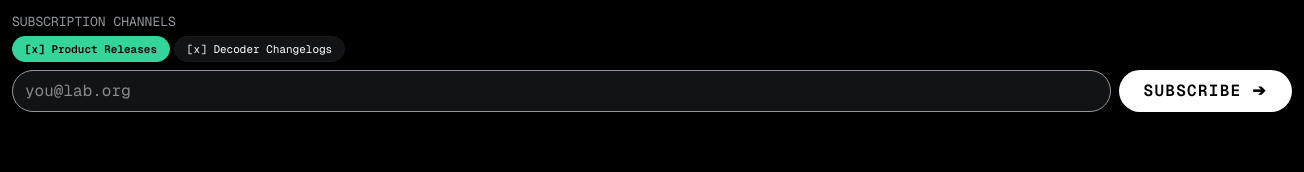
Test: SubscribeForm › rejects an invalid email with an error status
The image size is (1304, 172).
// Bypass native email validation: the component validates too.
In the field with placeholder "you@lab.org": (561, 91) [12,70,1110,112], type "not-an-email"
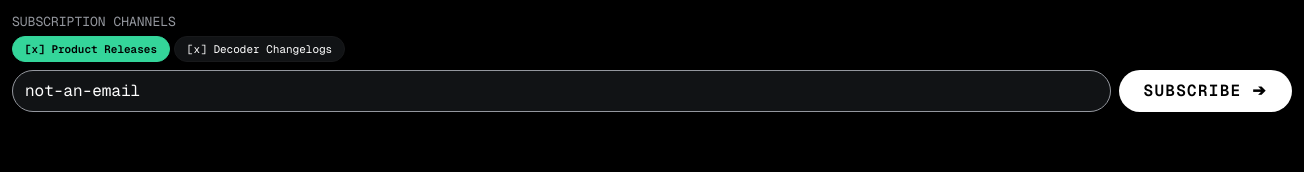
Click the button "Subscribe ➔": (1205, 91) [1118,70,1292,112]
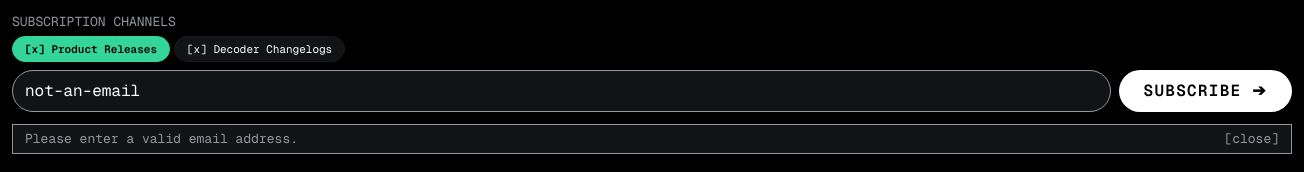
Result: the message shows "valid email address" at [25,130,298,147]
